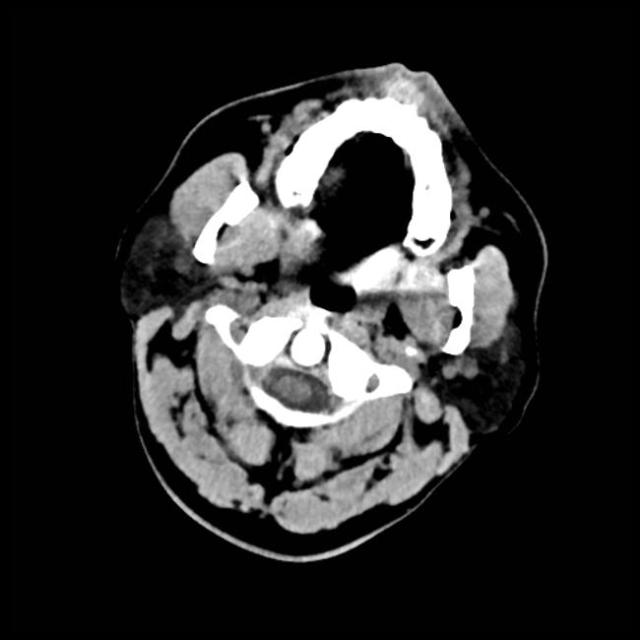lesion: (116, 62, 548, 553)
